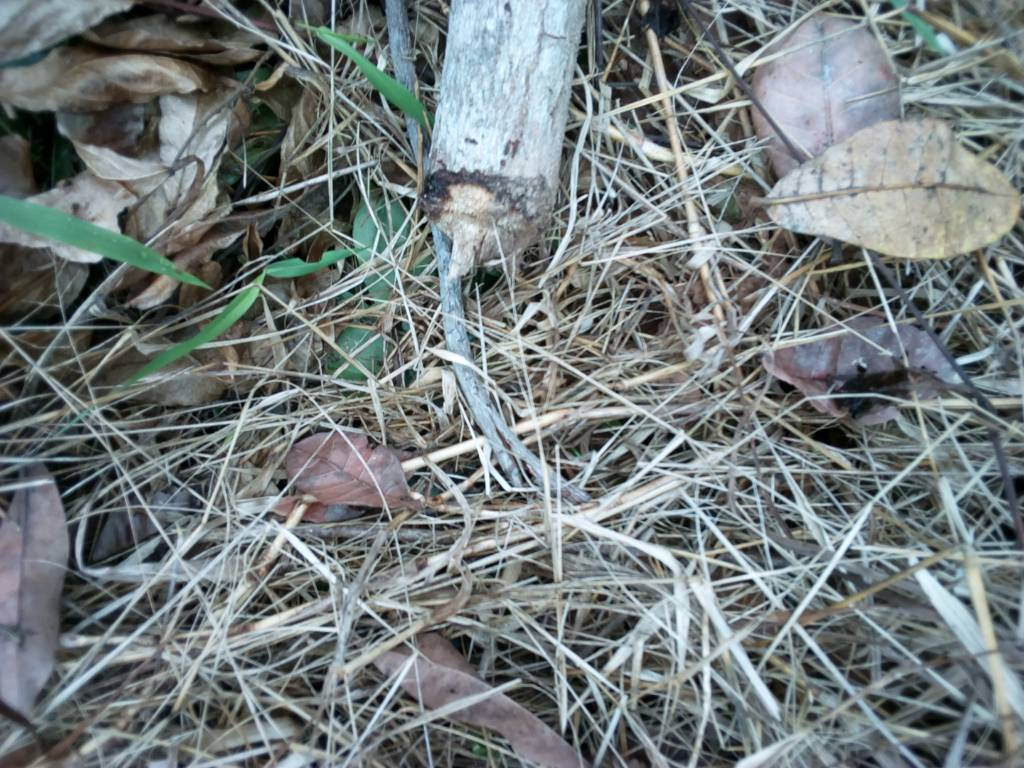Analepse trifasciata: (396, 139, 578, 284)
